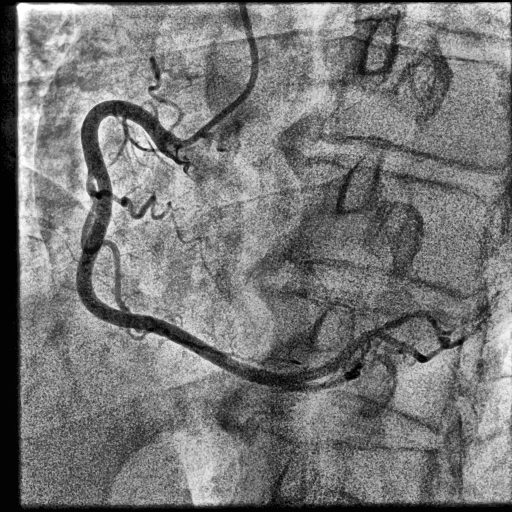pborca: (290, 311, 448, 381)
pda: (283, 369, 357, 392)
rca: (77, 101, 293, 387)
